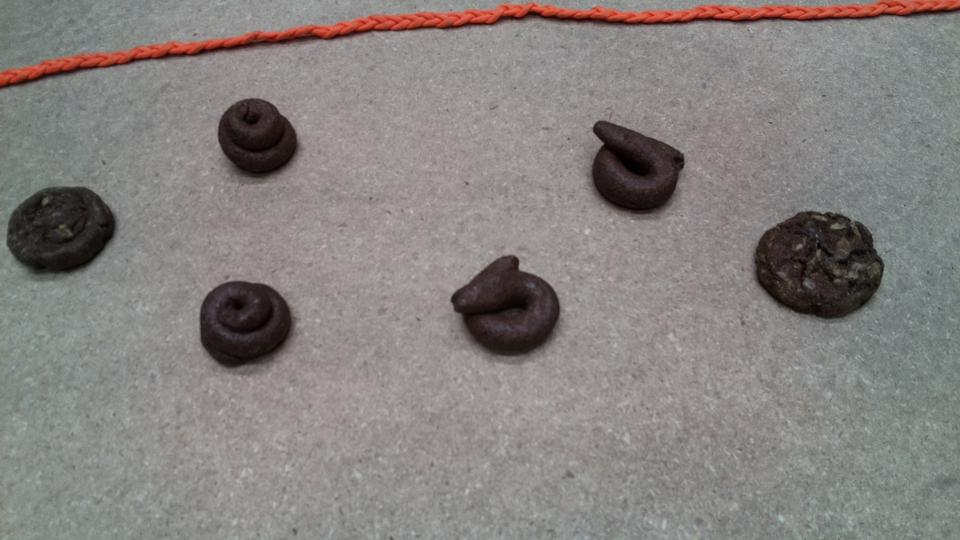poop: (751, 207, 886, 325), (446, 250, 565, 366), (3, 182, 122, 281), (588, 114, 691, 221), (195, 274, 296, 377), (213, 94, 308, 179)
rope: (1, 1, 960, 88)
